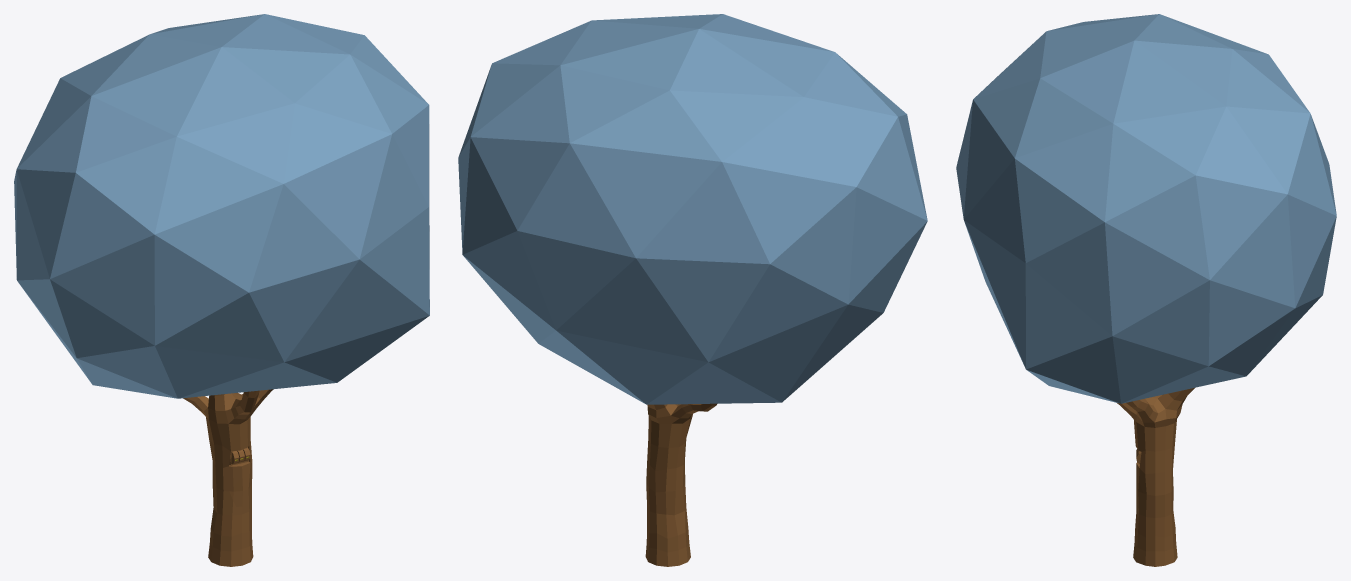
Rendered from Tree_Game.fbx.
3 renders of one model, left to right at view 1: azimuth 30°, elevation 25°; view 2: azimuth 150°, elevation 25°; view 3: azimuth 270°, elevation 25°, orthographic. The views are drawn at different scales.
Parts seen in each view (by area): view 1: Circle.001, Circle.002; view 2: Circle.001, Circle.002; view 3: Circle.001, Circle.002.
Boxes of the visible parts, <box> form: Circle.001: <box>14,14,429,536</box>; Circle.002: <box>208,528,253,566</box>; Circle.001: <box>458,14,927,538</box>; Circle.002: <box>645,528,690,566</box>; Circle.001: <box>956,14,1336,537</box>; Circle.002: <box>1133,527,1177,566</box>.
Bounding box in the file's own units: 4546 × 5673 × 3856.
